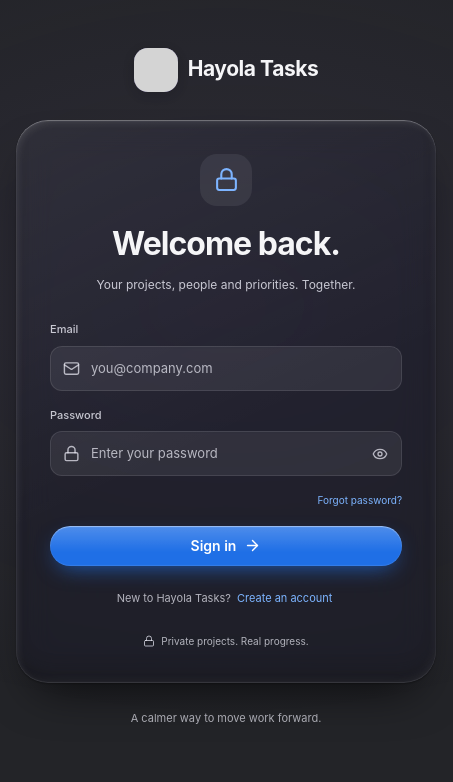
it: Backend setup and authentication › displays backend failure without entering workspace
The width and height of the screenshot is (453, 782).
Type "bad@example.com" into the field labelled "Email".
click(226, 368); type("bad@example.com")  # box [50,346,402,390]
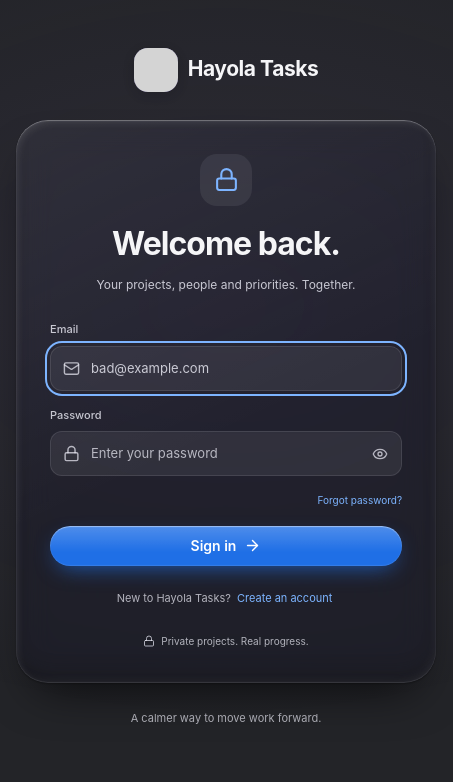
Type "wrong" into the password field labelled "Password".
click(226, 454); type("wrong")  # box [50,431,402,476]
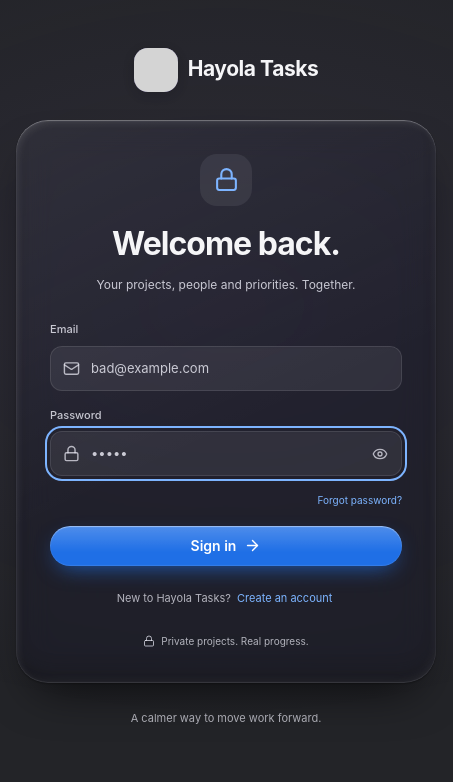
Click the button "Sign in".
click(226, 546)  # box [50,526,402,566]
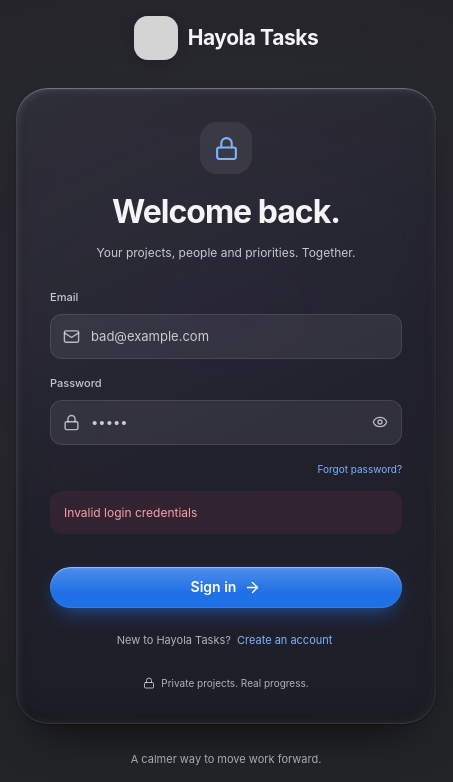
Expected: the message shows "Invalid login", [64,505,197,520]
